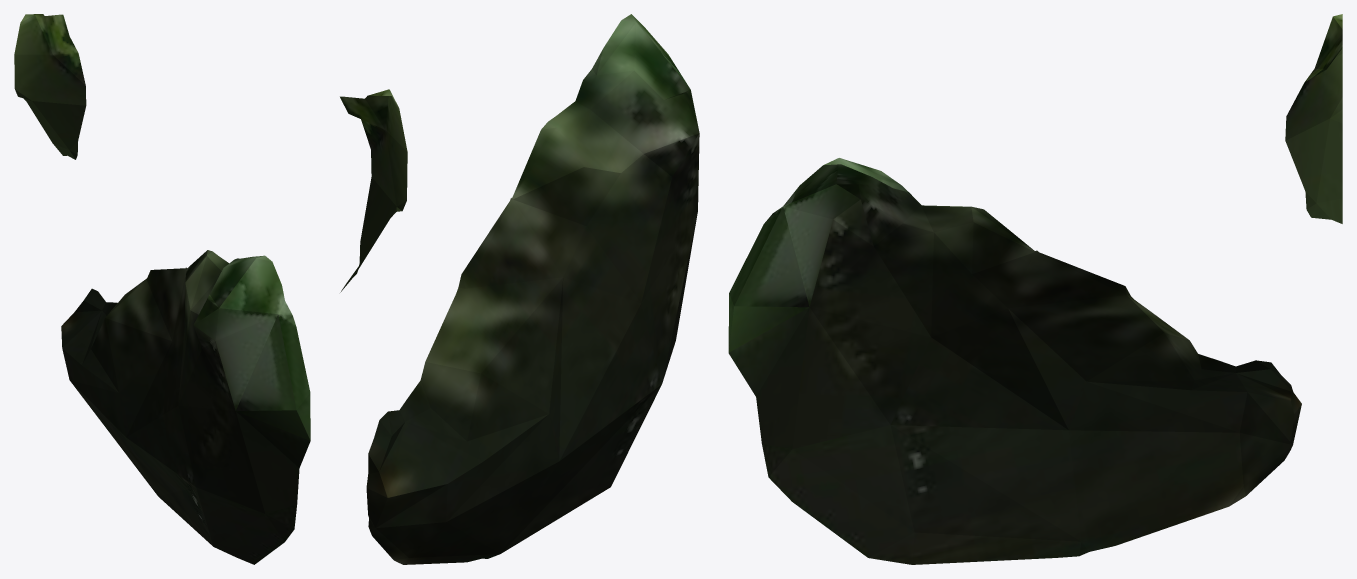
The picture shows the model from 3 angles, left to right: view 1: azimuth 30°, elevation 25°; view 2: azimuth 150°, elevation 25°; view 3: azimuth 270°, elevation 25°; orthographic projection. The views are drawn at different scales.
Size of the model in its own units: 0.086 by 0.5484 by 0.5767.
Materials: 1 (1 with a texture image).
